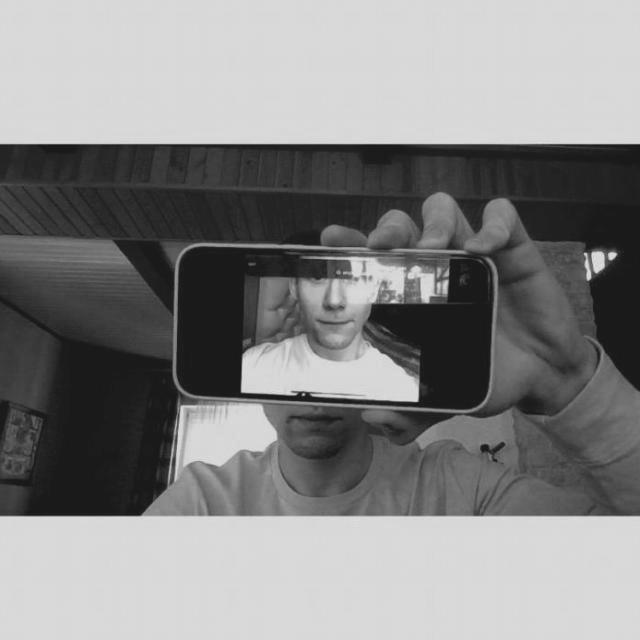fake: (172, 244, 496, 404)
